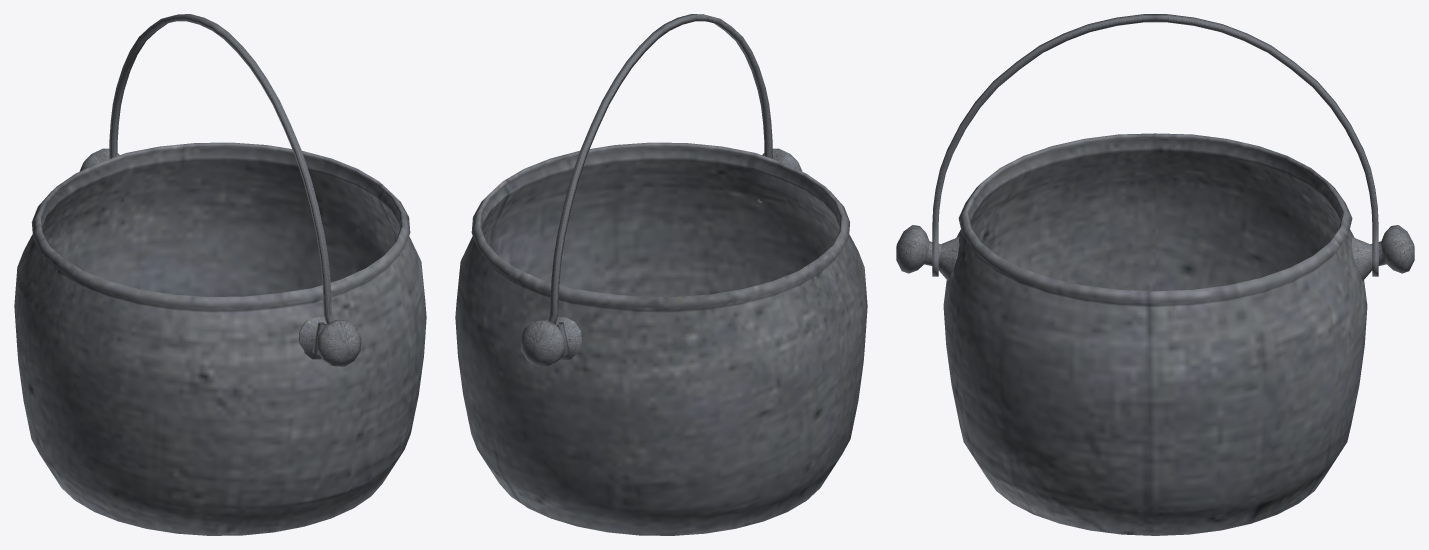
Rendered from Olla.obj.
3 views of the same model, side by side, from view 1: azimuth 30°, elevation 25°; view 2: azimuth 150°, elevation 25°; view 3: azimuth 270°, elevation 25° (orthographic). The views are drawn at different scales.
Parts seen in each view (by area): view 1: polySurface1 periuk:Mesh, periuk:Mesh polySurface6, periuk:Mesh polySurface4; view 2: polySurface1 periuk:Mesh, periuk:Mesh polySurface6, periuk:Mesh polySurface5; view 3: polySurface1 periuk:Mesh, periuk:Mesh polySurface6, periuk:Mesh polySurface4, periuk:Mesh polySurface5.
Boxes of the visible parts, x1,y1,x2,y2 form: polySurface1 periuk:Mesh: [14, 142, 426, 535]; periuk:Mesh polySurface6: [109, 14, 332, 358]; periuk:Mesh polySurface4: [299, 317, 361, 366]; polySurface1 periuk:Mesh: [455, 142, 867, 535]; periuk:Mesh polySurface6: [549, 14, 772, 358]; periuk:Mesh polySurface5: [520, 317, 581, 366]; polySurface1 periuk:Mesh: [943, 133, 1367, 535]; periuk:Mesh polySurface6: [932, 14, 1378, 276]; periuk:Mesh polySurface4: [896, 225, 959, 280]; periuk:Mesh polySurface5: [1351, 225, 1414, 280].
Size of the model in its own units: 3.96 by 4.64 by 4.84.
1 material, 1 textured.
